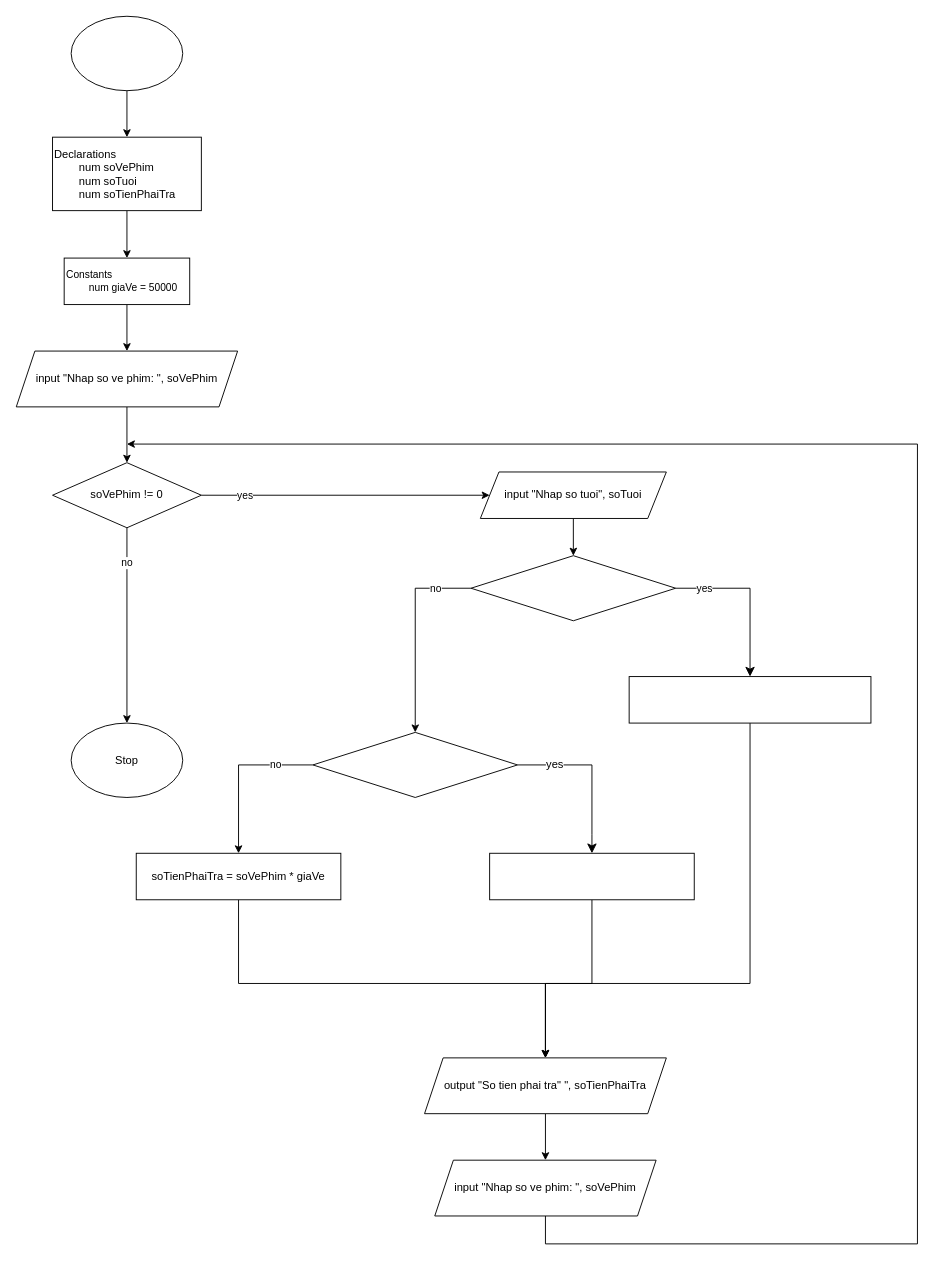
Image size: 941x1268. Some labels were removed from this diagram. The shapes that lost their labels are listed below. From the top down, each one's centre as x and y in pixels, then its label:
At (x=126, y=53): "Start".
At (x=573, y=588): "0 <= soTuoi && soTuoi < 18".
At (x=749, y=699): "soTienPhaiTra = soVePhim * giaVe * 0.85".
At (x=415, y=764): "18 <= soTuoi && soTuoi <= 21".
At (x=591, y=876): "soTienPhaiTra = soVePhim * giaVe * 0.9".
